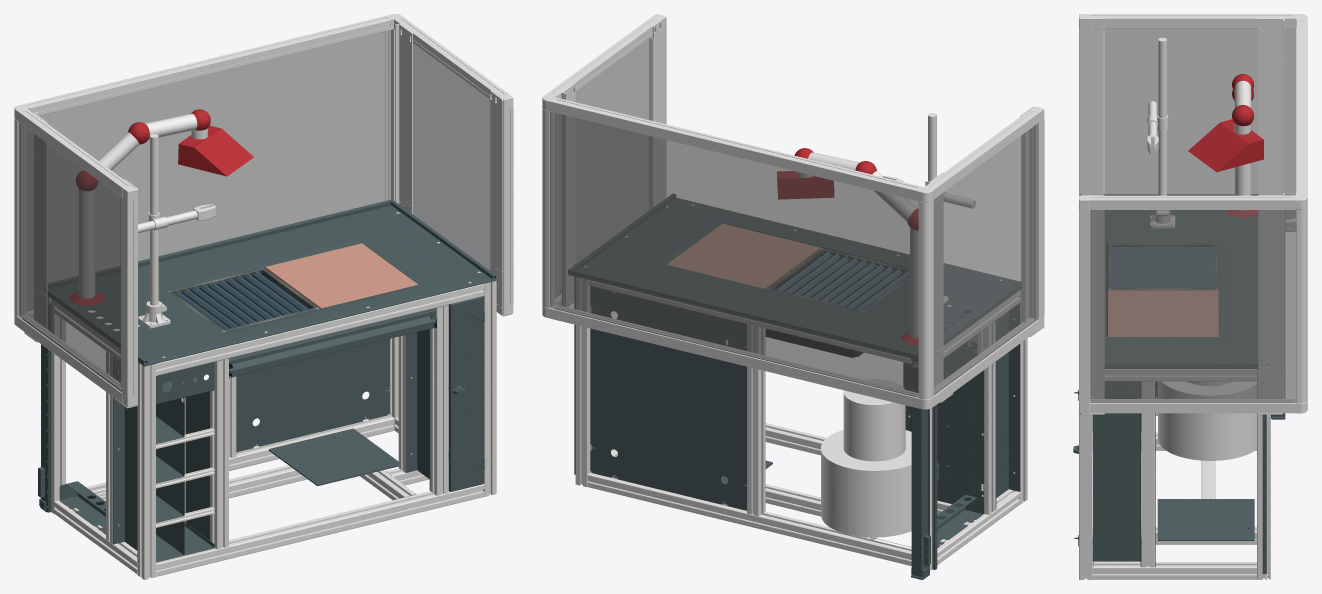
Rendered from Schweisstisch.FBX.
3 views of the same model, side by side, from view 1: azimuth 30°, elevation 25°; view 2: azimuth 150°, elevation 25°; view 3: azimuth 270°, elevation 25° (orthographic).
Parts seen in each view (by area): view 1: glas, rahmen, tischplatte, blech 10, tür 01, system 17, PlatteKupfer, platte stromquelle, system 09, lade frontblende, system 25, blech 09 (+29 smaller); view 2: glas, rahmen, blech 10, tischplatte, sauger, blech kastl 02, system 07, PlatteKupfer, blech kastl 01, system 01, tischplatte rahmen, ständer 01 (+13 smaller); view 3: glas, rahmen, tischplatte, verkleidung 01, sauger, PlatteKupfer, platte stromquelle, entlüftung rot, system 15, system 12, system 11, system 03 (+18 smaller).
Boxes of the visible parts, x1,y1,x2,y2 form: glas: (18, 30, 490, 391); rahmen: (14, 14, 513, 408); tischplatte: (48, 205, 496, 366); blech 10: (236, 338, 389, 452); tür 01: (448, 296, 484, 491); system 17: (156, 484, 484, 576); PlatteKupfer: (265, 243, 418, 308); platte stromquelle: (269, 428, 398, 485); system 09: (156, 283, 484, 375); lade frontblende: (229, 308, 436, 378); system 25: (137, 362, 155, 579); blech 09: (405, 329, 430, 490); glas: (550, 37, 1038, 397); rahmen: (542, 14, 1044, 409); blech 10: (590, 286, 746, 510); tischplatte: (568, 198, 1020, 359); sauger: (821, 379, 911, 537); blech kastl 02: (903, 347, 984, 513); system 07: (587, 472, 911, 565); PlatteKupfer: (667, 224, 819, 288); blech kastl 01: (993, 303, 1020, 509); system 01: (747, 324, 765, 516); tischplatte rahmen: (568, 193, 1020, 358); ständer 01: (911, 362, 930, 577); glas: (1090, 28, 1296, 402); rahmen: (1079, 14, 1307, 414); tischplatte: (1105, 210, 1257, 368); verkleidung 01: (1093, 381, 1140, 566); sauger: (1158, 381, 1256, 460); PlatteKupfer: (1108, 290, 1218, 336); platte stromquelle: (1157, 499, 1254, 540); entlüftung rot: (1188, 74, 1263, 216); system 15: (1092, 562, 1256, 579); system 12: (1141, 381, 1154, 567); system 11: (1079, 413, 1092, 579); system 03: (1257, 369, 1270, 579).
Bounding box in the file's own units: 1590 × 1590 × 845.
